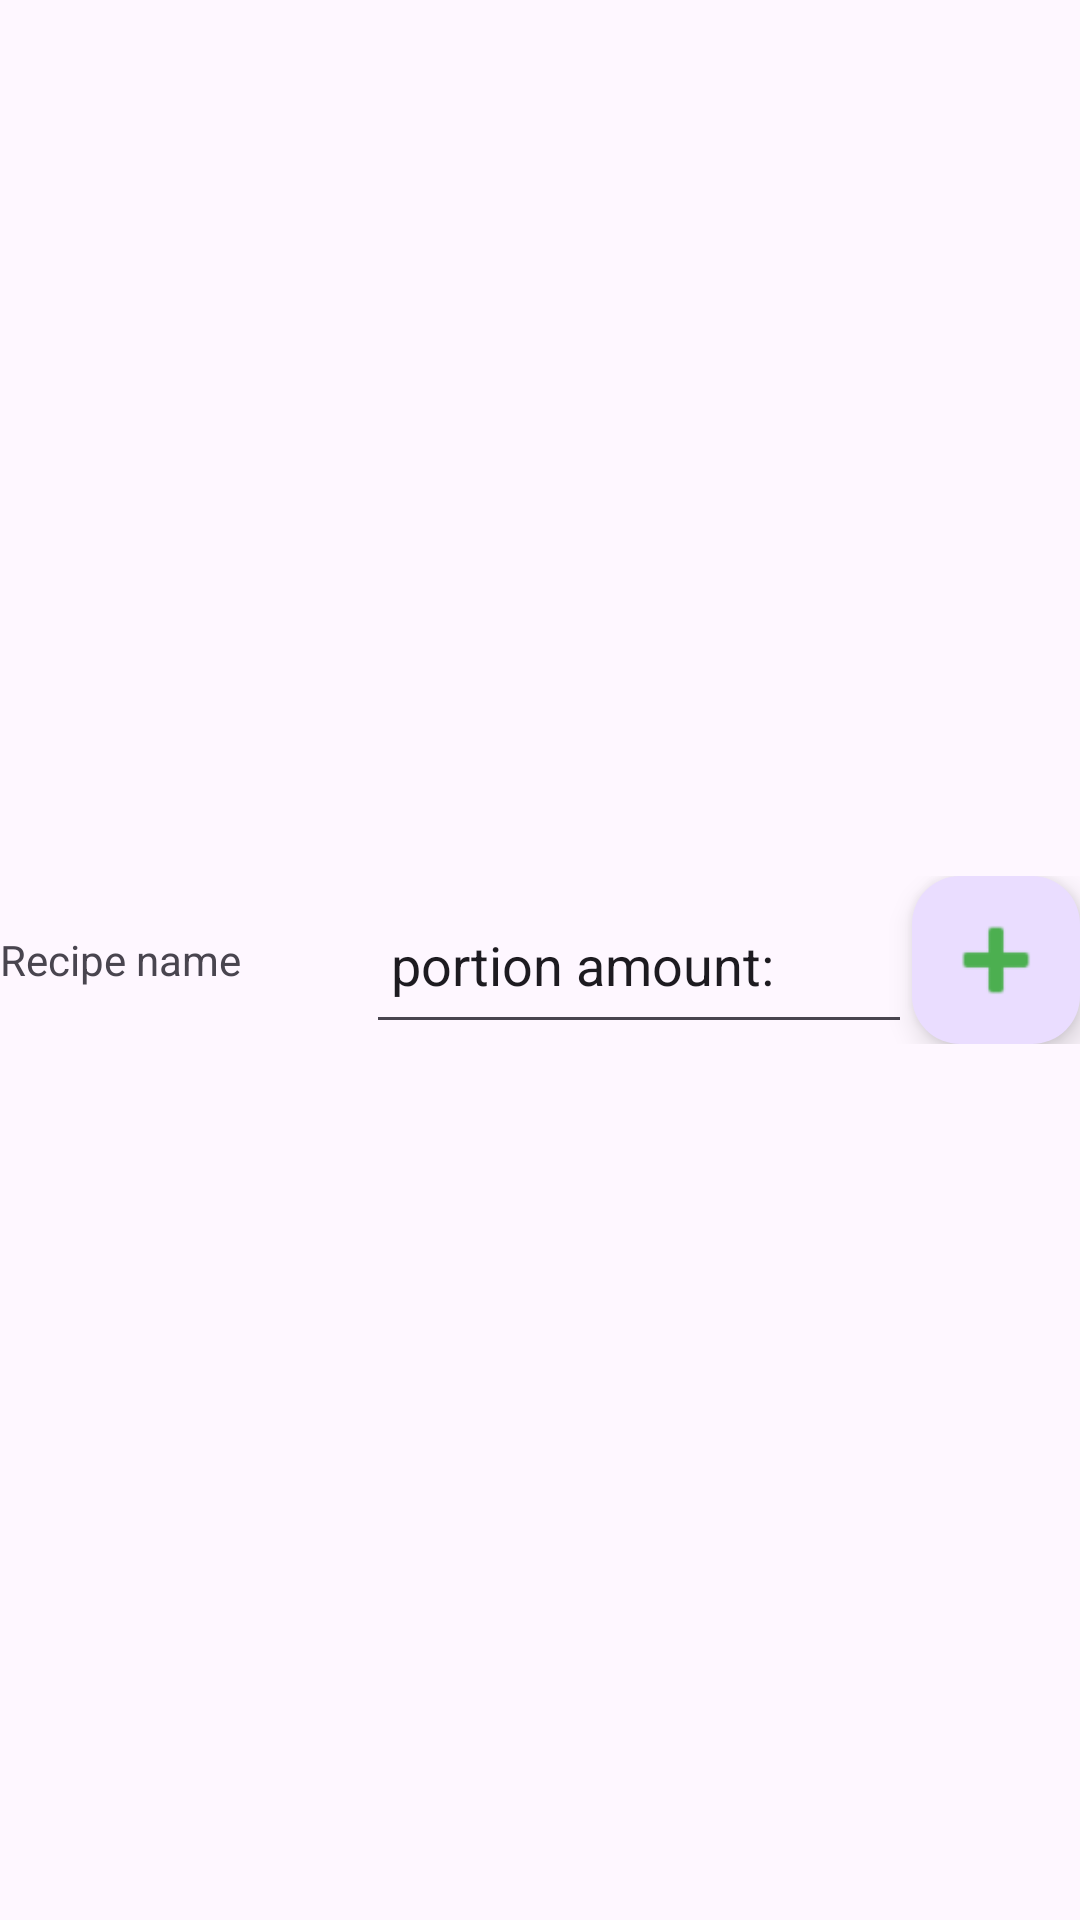

Icon click points for this 1080w x 1920h phone screenshot, format point (x, y):
add: point (996, 960)
